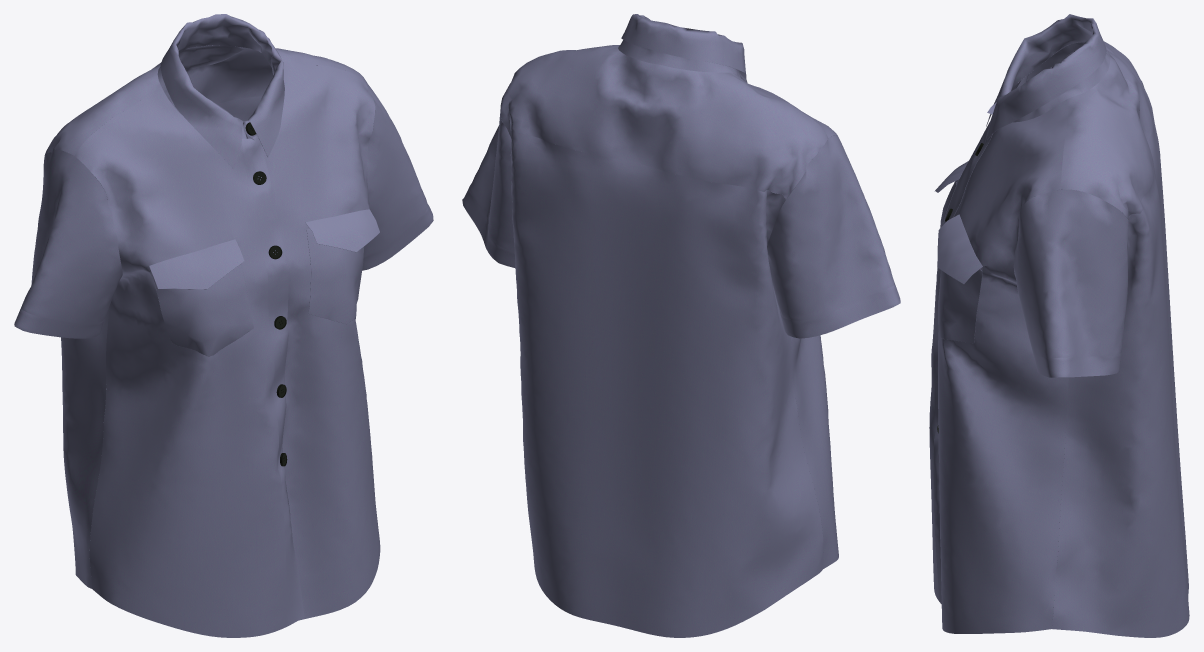
3 renders of one model, left to right at view 1: azimuth 30°, elevation 25°; view 2: azimuth 150°, elevation 25°; view 3: azimuth 270°, elevation 25°, orthographic. The views are drawn at different scales.
Visible parts, largest first — view 1: Pattern2D_5340174, Pattern2D_5340173, 31, Pattern2D_3547521, Pattern2D_3634183, Pattern2D_119045, 9, Pattern2D_5340176, Pattern2D_5340175, Pattern2D_5340178, Pattern2D_5340177; view 2: Pattern2D_3547521, Pattern2D_119045, 31, Pattern2D_5340174, Pattern2D_3634183, 9; view 3: Pattern2D_5340173, Pattern2D_3547521, 9, Pattern2D_119045, Pattern2D_3634183, Pattern2D_5340174, Pattern2D_5340175, Pattern2D_5340177, 31.
Boxes of the visible parts, x1=… form: Pattern2D_5340174: x1=75, y1=86, x2=304, y2=637; Pattern2D_5340173: x1=251, y1=62, x2=380, y2=620; 31: x1=14, y1=149, x2=122, y2=338; Pattern2D_3547521: x1=61, y1=96, x2=261, y2=588; Pattern2D_3634183: x1=157, y1=14, x2=284, y2=169; Pattern2D_119045: x1=45, y1=45, x2=364, y2=155; 9: x1=362, y1=78, x2=433, y2=270; Pattern2D_5340176: x1=151, y1=264, x2=253, y2=356; Pattern2D_5340175: x1=306, y1=229, x2=364, y2=324; Pattern2D_5340178: x1=149, y1=239, x2=244, y2=289; Pattern2D_5340177: x1=305, y1=209, x2=379, y2=252; Pattern2D_3547521: x1=507, y1=127, x2=823, y2=637; Pattern2D_119045: x1=500, y1=45, x2=828, y2=199; 31: x1=767, y1=135, x2=900, y2=338; Pattern2D_5340174: x1=733, y1=73, x2=838, y2=568; Pattern2D_3634183: x1=618, y1=14, x2=747, y2=82; 9: x1=462, y1=74, x2=515, y2=267; Pattern2D_5340173: x1=938, y1=99, x2=1068, y2=633; Pattern2D_3547521: x1=1051, y1=86, x2=1189, y2=637; 9: x1=1013, y1=189, x2=1128, y2=377; Pattern2D_119045: x1=1061, y1=41, x2=1153, y2=219; Pattern2D_3634183: x1=986, y1=14, x2=1110, y2=139; Pattern2D_5340174: x1=929, y1=45, x2=1067, y2=603; Pattern2D_5340175: x1=938, y1=269, x2=982, y2=343; Pattern2D_5340177: x1=937, y1=214, x2=982, y2=284; 31: x1=1026, y1=43, x2=1080, y2=81.
Bounding box in the file's own units: 54.29 × 68.37 × 28.02.
